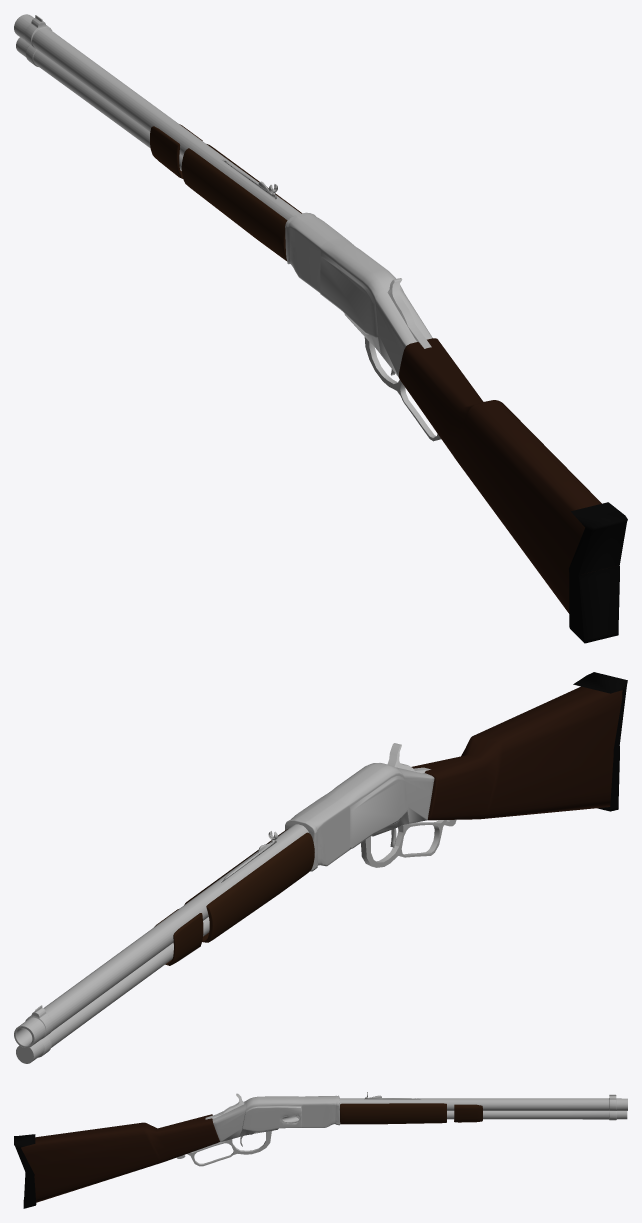
Rendered from winchester-1873.glb.
The picture shows the model from 3 angles, top to bottom: view 1: azimuth 30°, elevation 25°; view 2: azimuth 150°, elevation 25°; view 3: azimuth 270°, elevation 25°; orthographic projection. The views are drawn at different scales.
Parts seen in each view (by area): view 1: Cube.002, butt-stock.001, Cube.001; view 2: Cube.002, butt-stock.001, Cube.001; view 3: Cube.002, butt-stock.001, Cube.001, Cube.003.
Part boxes in pixels (<box>): Cube.002: <box>14,14,617,613</box>; butt-stock.001: <box>569,502,627,643</box>; Cube.001: <box>364,337,440,441</box>; Cube.002: <box>14,686,622,1063</box>; butt-stock.001: <box>573,672,627,811</box>; Cube.001: <box>361,819,456,867</box>; Cube.002: <box>21,1092,627,1202</box>; butt-stock.001: <box>14,1134,36,1208</box>; Cube.001: <box>177,1130,272,1166</box>; Cube.003: <box>205,1093,244,1119</box>.
Size of the model in its own units: 0.6453 by 2.93 by 14.53.
4 materials, 2 textured.
